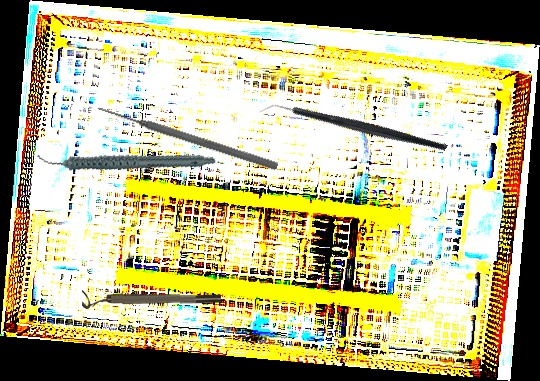Chopper: (259, 47, 448, 211)
Fixation Ring: (81, 289, 222, 312)
Handpiece: (34, 116, 218, 203)
Pusher: (94, 101, 280, 173)
